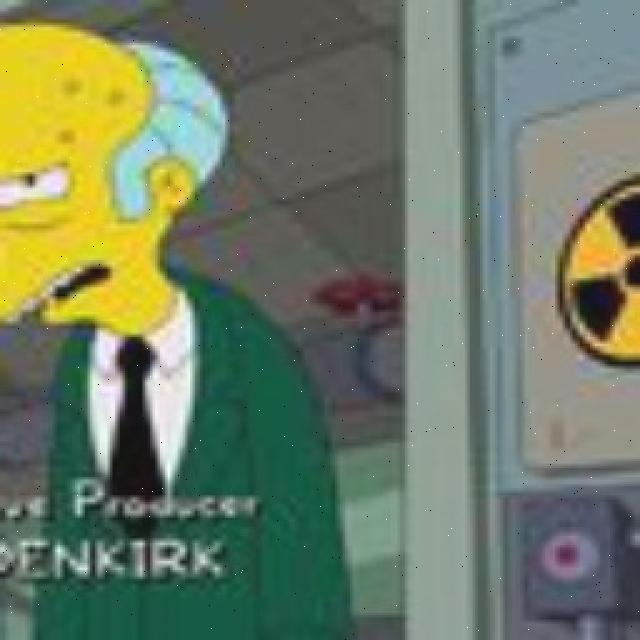Charles Montgomery Burns: (2, 17, 234, 345)
